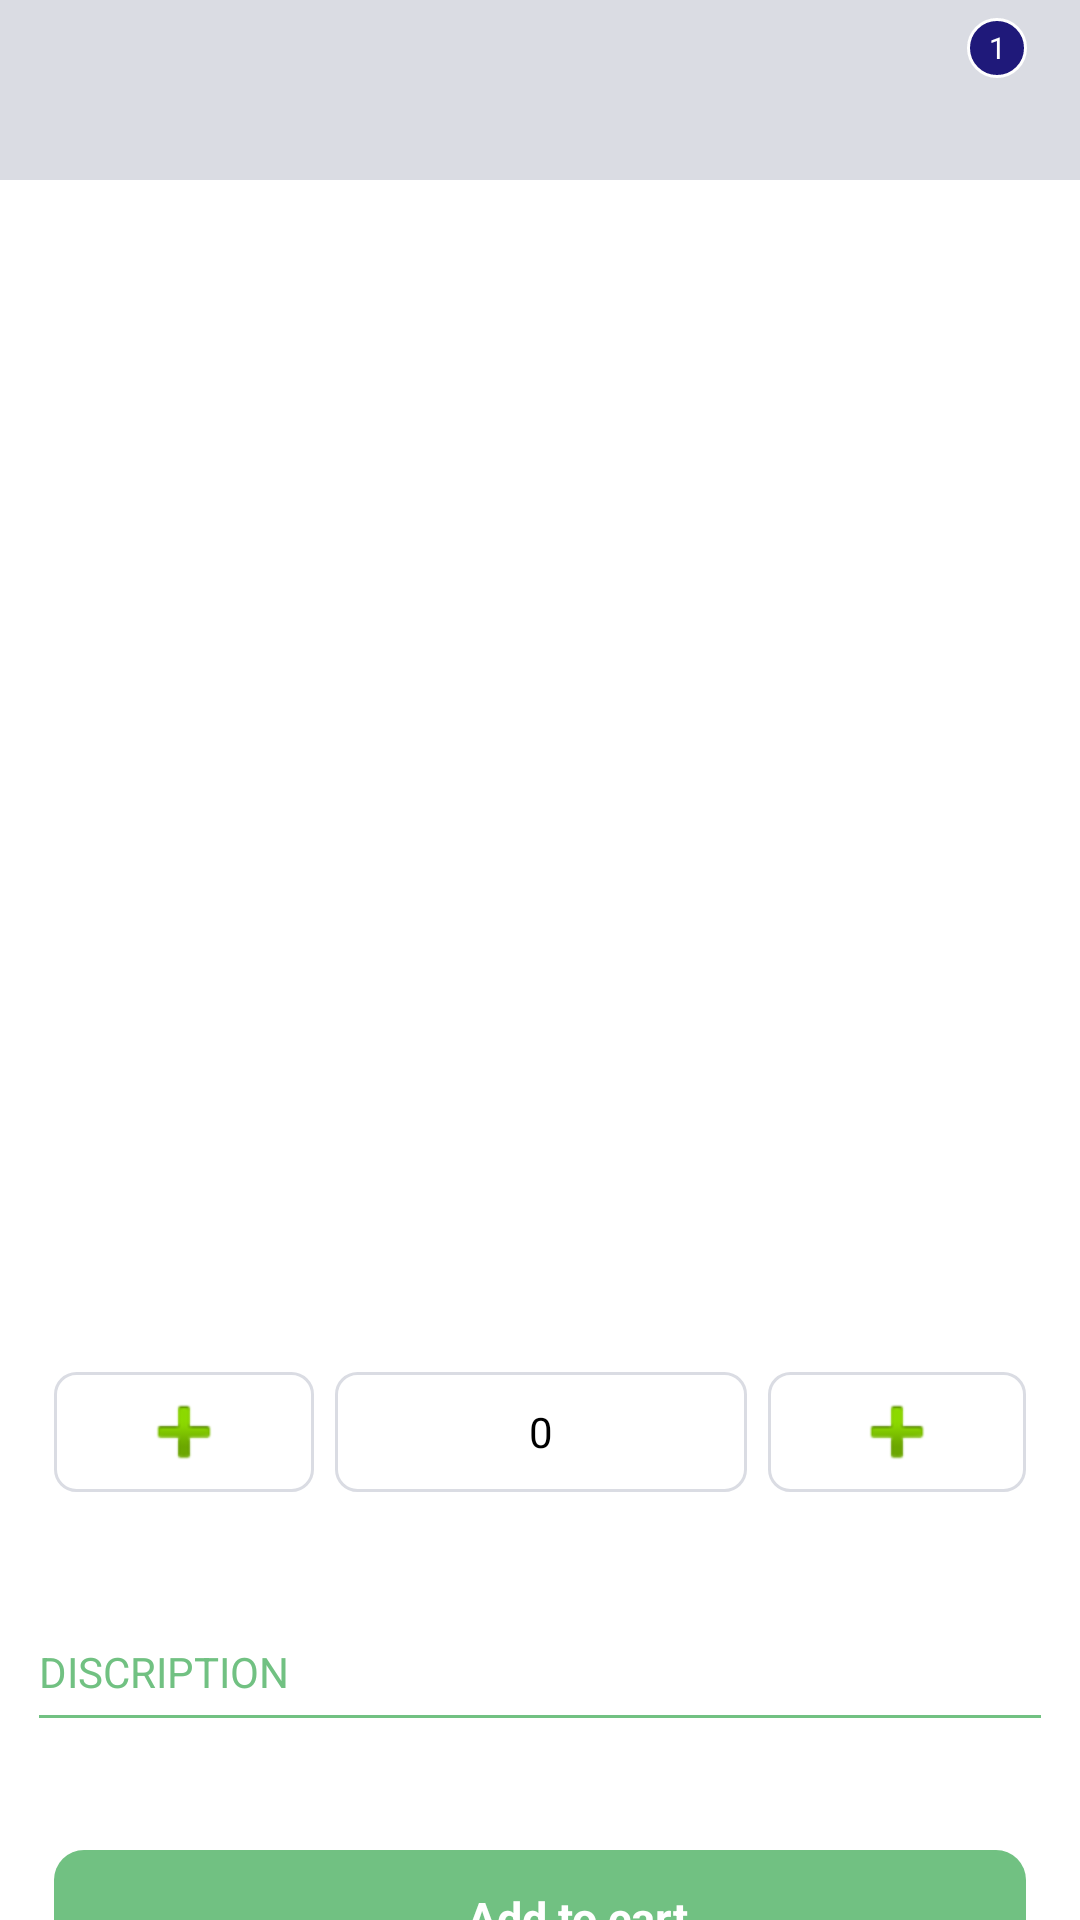

Icons on this 1080px x 1920px Android screen, each with the point to tap as (x,y):
add: (184,1432), (897,1432)
